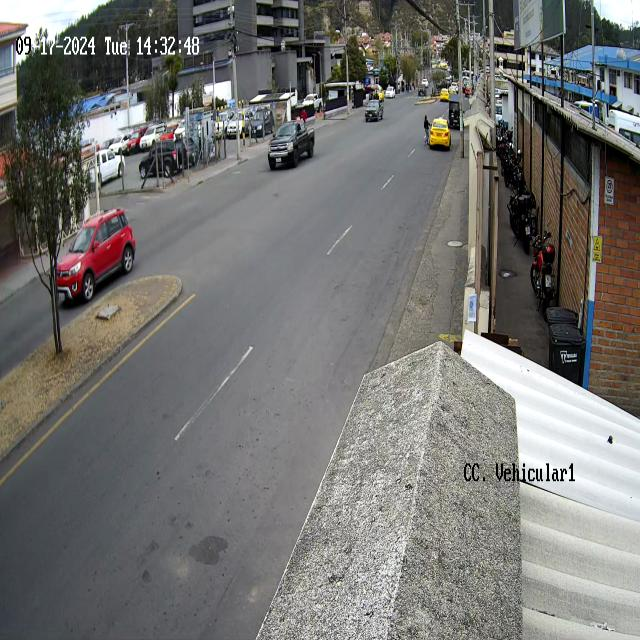CMT: (266, 118, 316, 171)
SED: (429, 117, 453, 150)
SUV: (55, 206, 136, 308)
